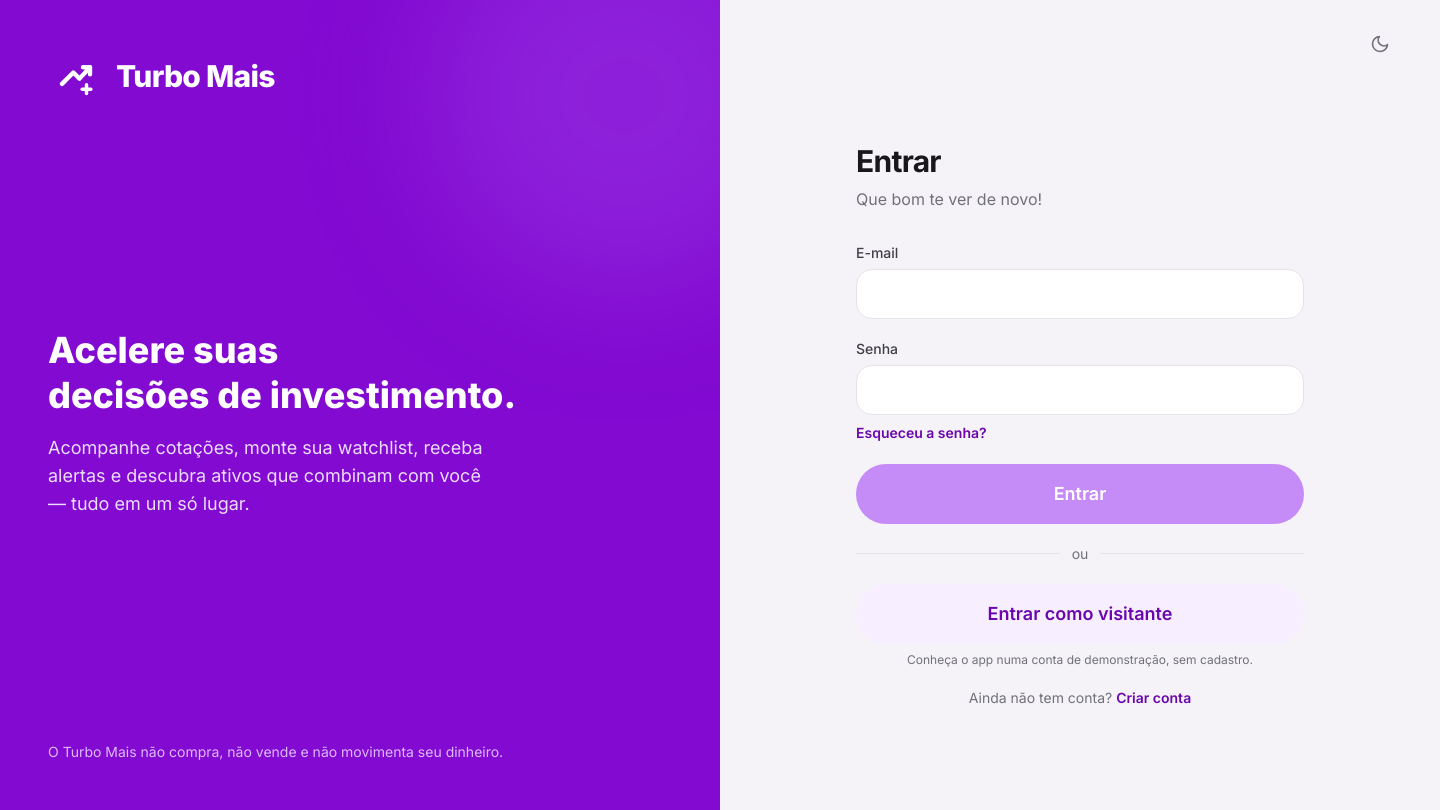
Login › exibe a mensagem de erro da API
This screenshot has width=1440, height=810.
Type "ana@teste.com" into the field labelled "E-mail".
click(1080, 294); type("ana@teste.com")  # box 856,268 -> 1304,318
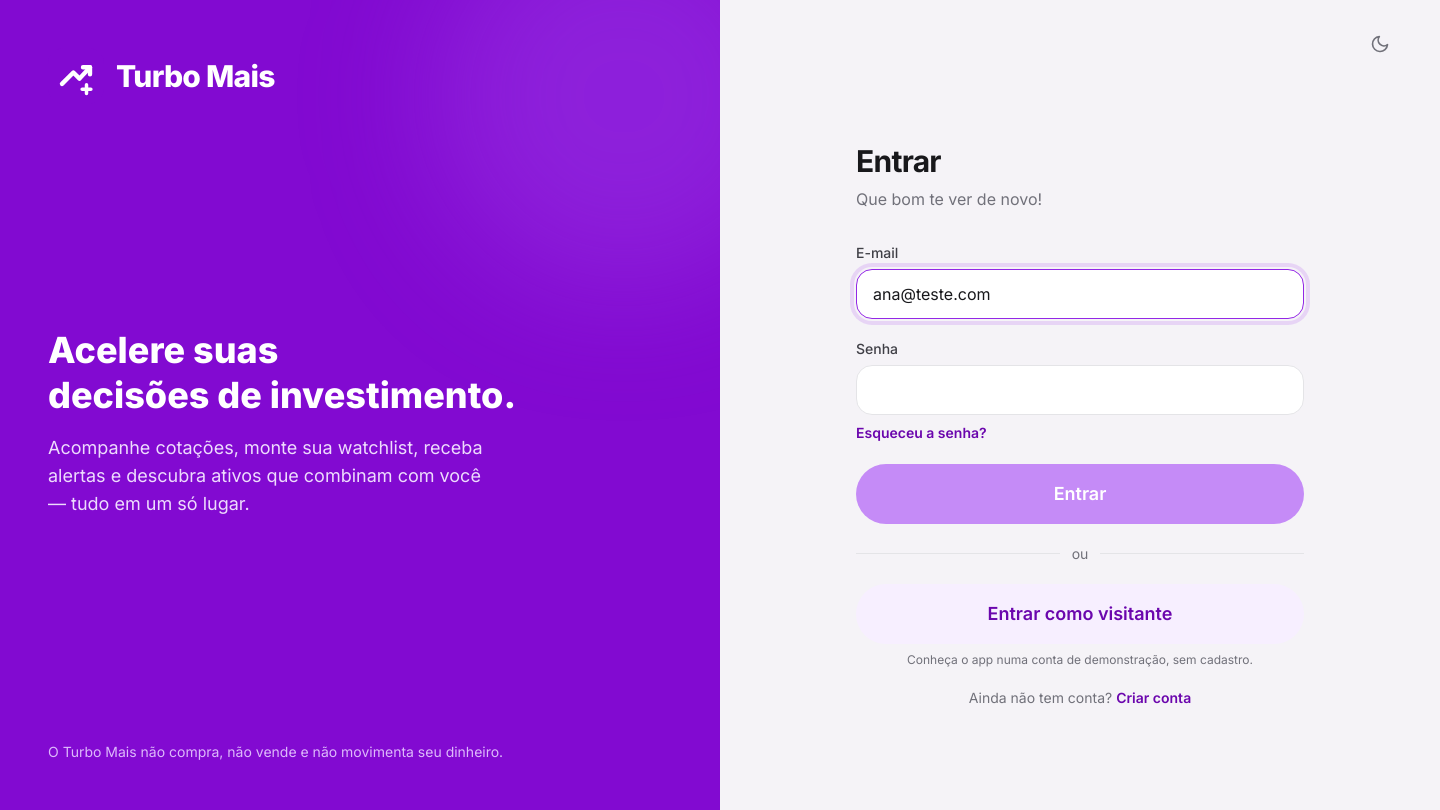
Type "x" into the password field labelled "Senha".
click(1080, 390); type("x")  # box 856,364 -> 1304,414
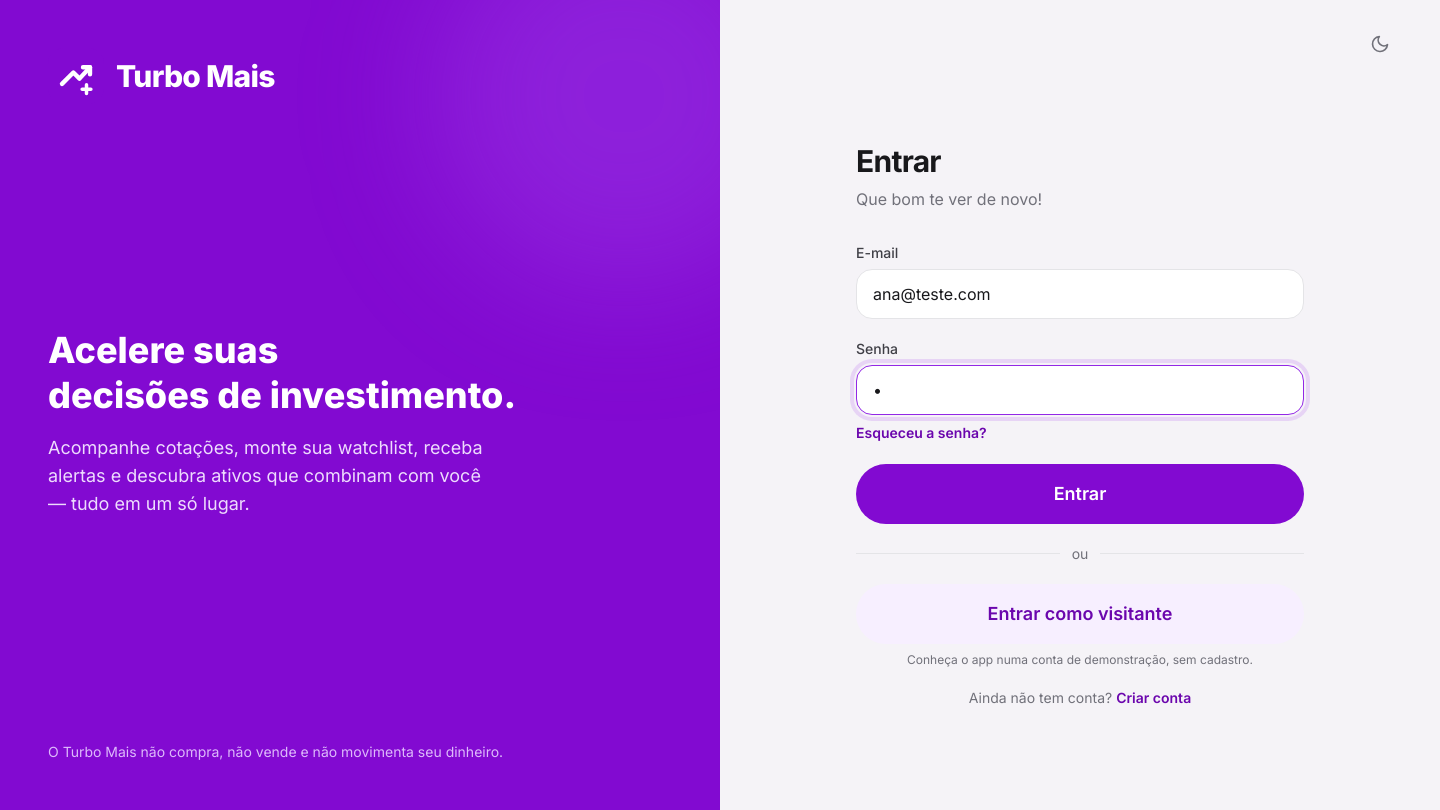
Click the button "Entrar".
click(1080, 494)  # box 856,464 -> 1304,524
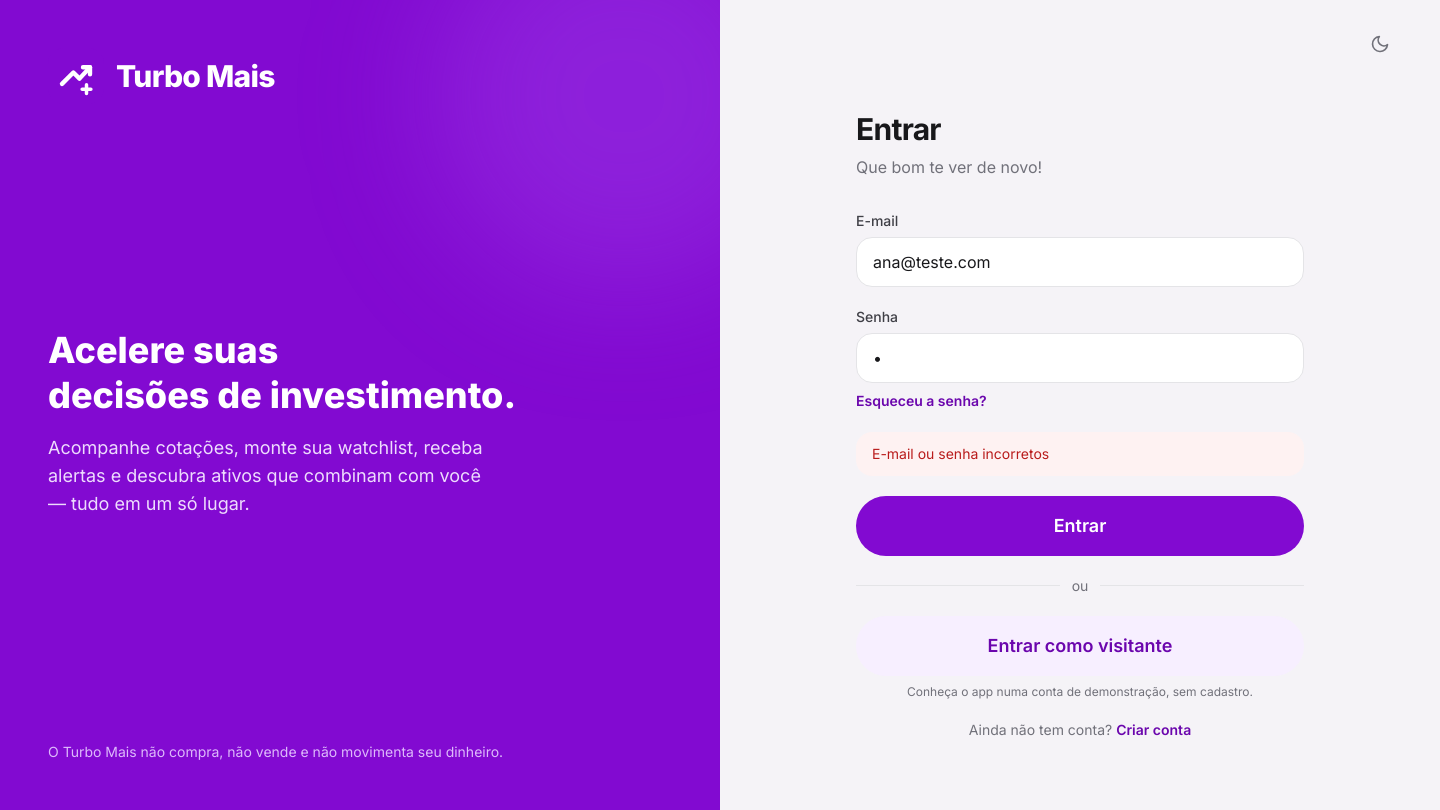
Now the message reads "E-mail ou senha incorretos", box 872,444 -> 1049,462
